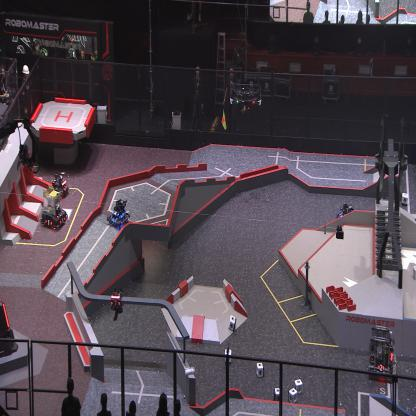car: (367, 324, 395, 382), (40, 188, 69, 230), (106, 196, 131, 231), (336, 200, 356, 231), (50, 170, 69, 199)
